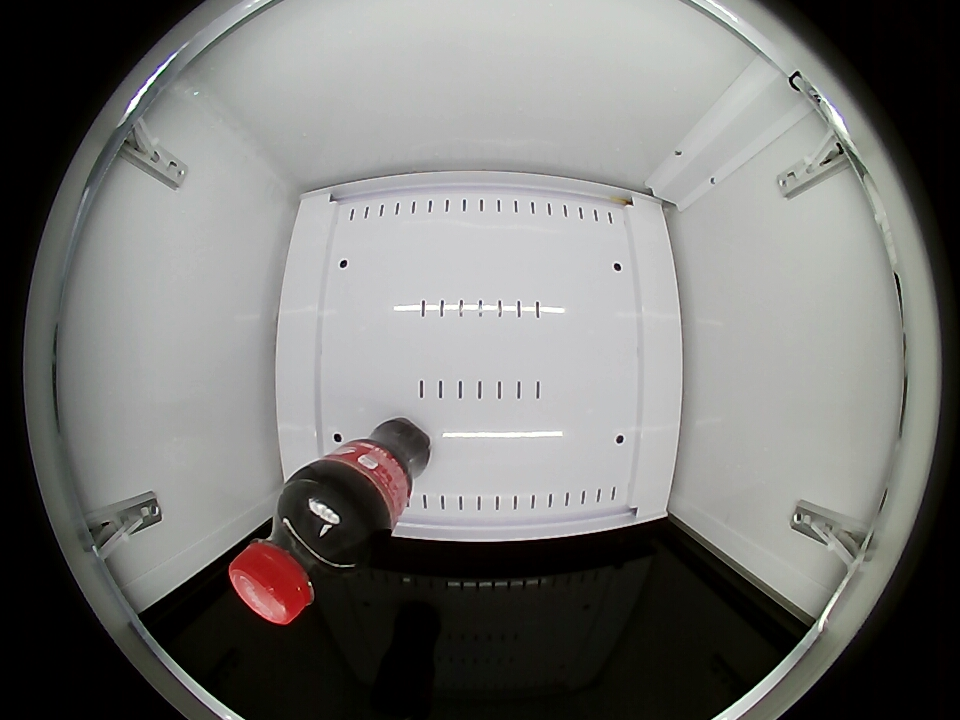kele-b: (231, 485, 371, 624)
